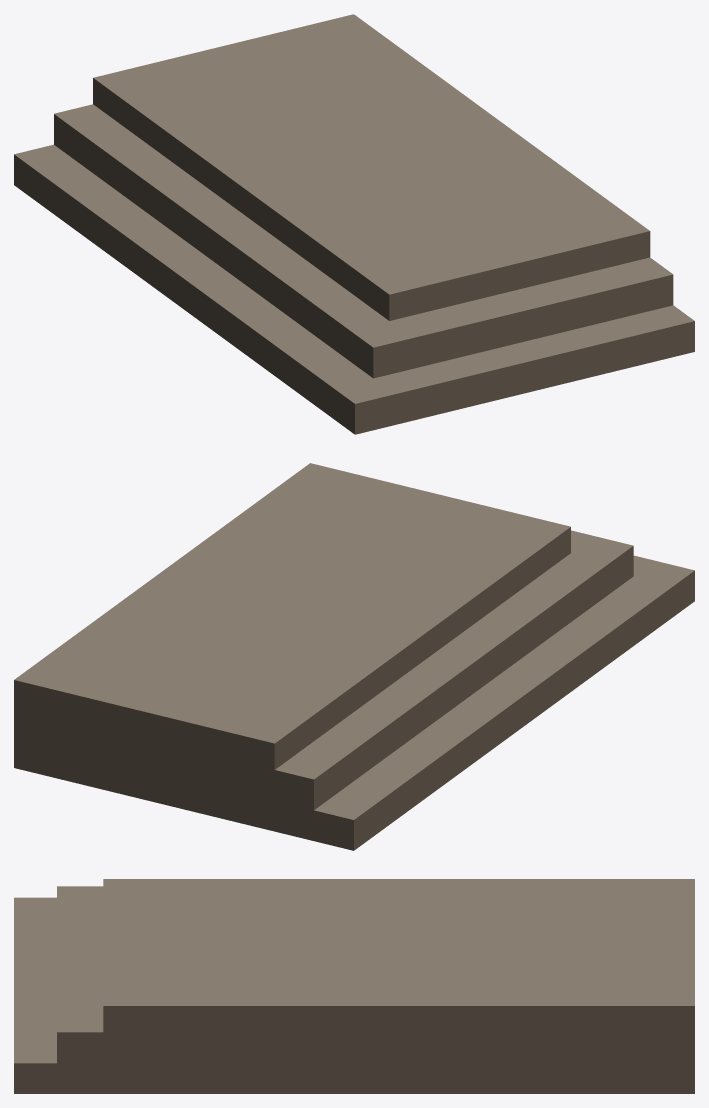
Rendered from Stairs_A2.fbx.
The picture shows the model from 3 angles, top to bottom: view 1: azimuth 30°, elevation 25°; view 2: azimuth 150°, elevation 25°; view 3: azimuth 270°, elevation 25°; orthographic projection.
Parts seen in each view (by area): view 1: Stairs_A2; view 2: Stairs_A2; view 3: Stairs_A2.
Part boxes in pixels (box(x1,y1,x2,y2)): Stairs_A2: box(14, 14, 694, 434); Stairs_A2: box(14, 463, 694, 850); Stairs_A2: box(14, 879, 694, 1093).
Bounding box in the file's own units: 404 × 100 × 702.
1 material, 1 textured.
